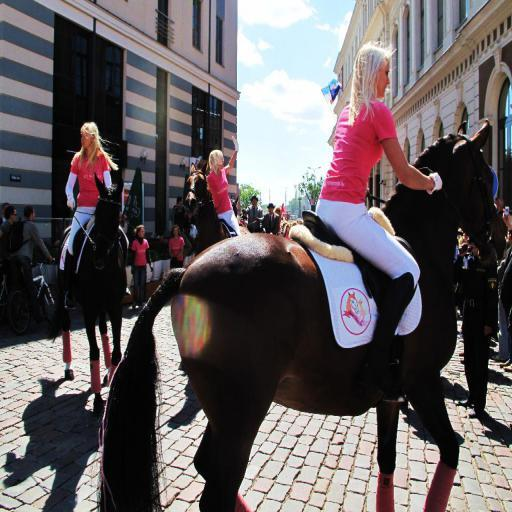Horse: (89, 116, 507, 511), (44, 170, 128, 416), (184, 160, 250, 258), (229, 195, 239, 220)
